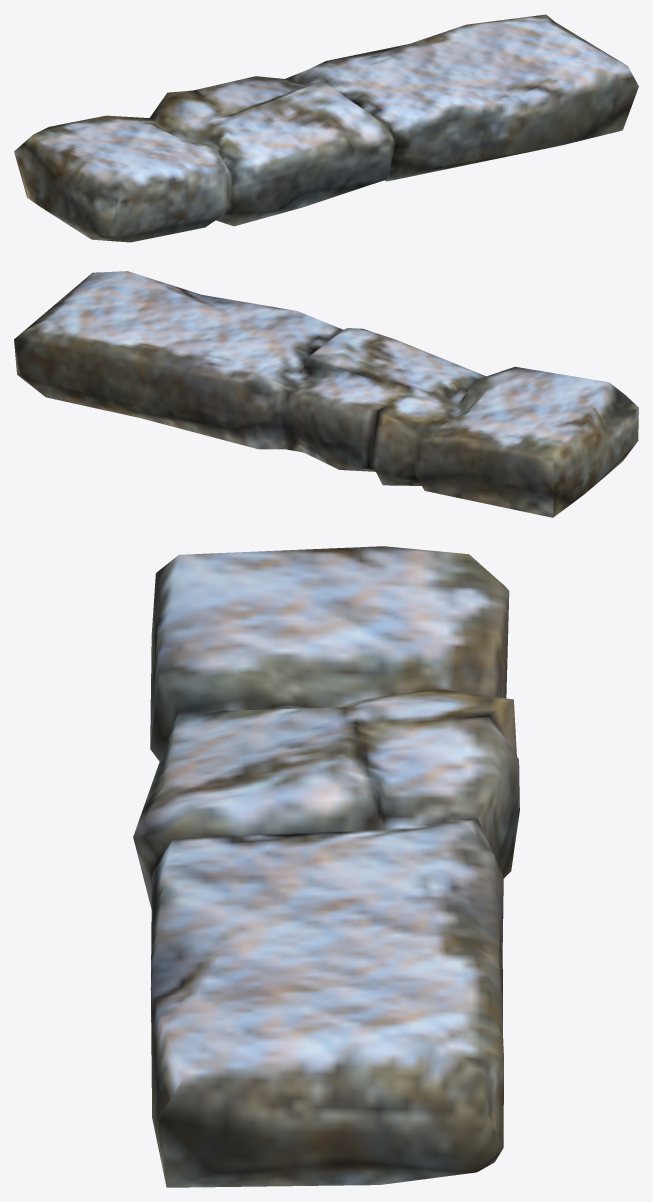
File: SM_EN_2007_shitou12.FBX
3 views of the same model, one above another, from view 1: azimuth 30°, elevation 25°; view 2: azimuth 150°, elevation 25°; view 3: azimuth 270°, elevation 25° (orthographic). The views are drawn at different scales.
Parts seen in each view (by area): view 1: SM_EN_2007_shitou12; view 2: SM_EN_2007_shitou12; view 3: SM_EN_2007_shitou12.
Boxes of the visible parts, x1,y1,x2,y2 form: SM_EN_2007_shitou12: (14, 14, 638, 242); SM_EN_2007_shitou12: (14, 271, 638, 517); SM_EN_2007_shitou12: (133, 546, 519, 1187).
Bounding box in the file's own units: 213 × 32.16 × 66.03.
